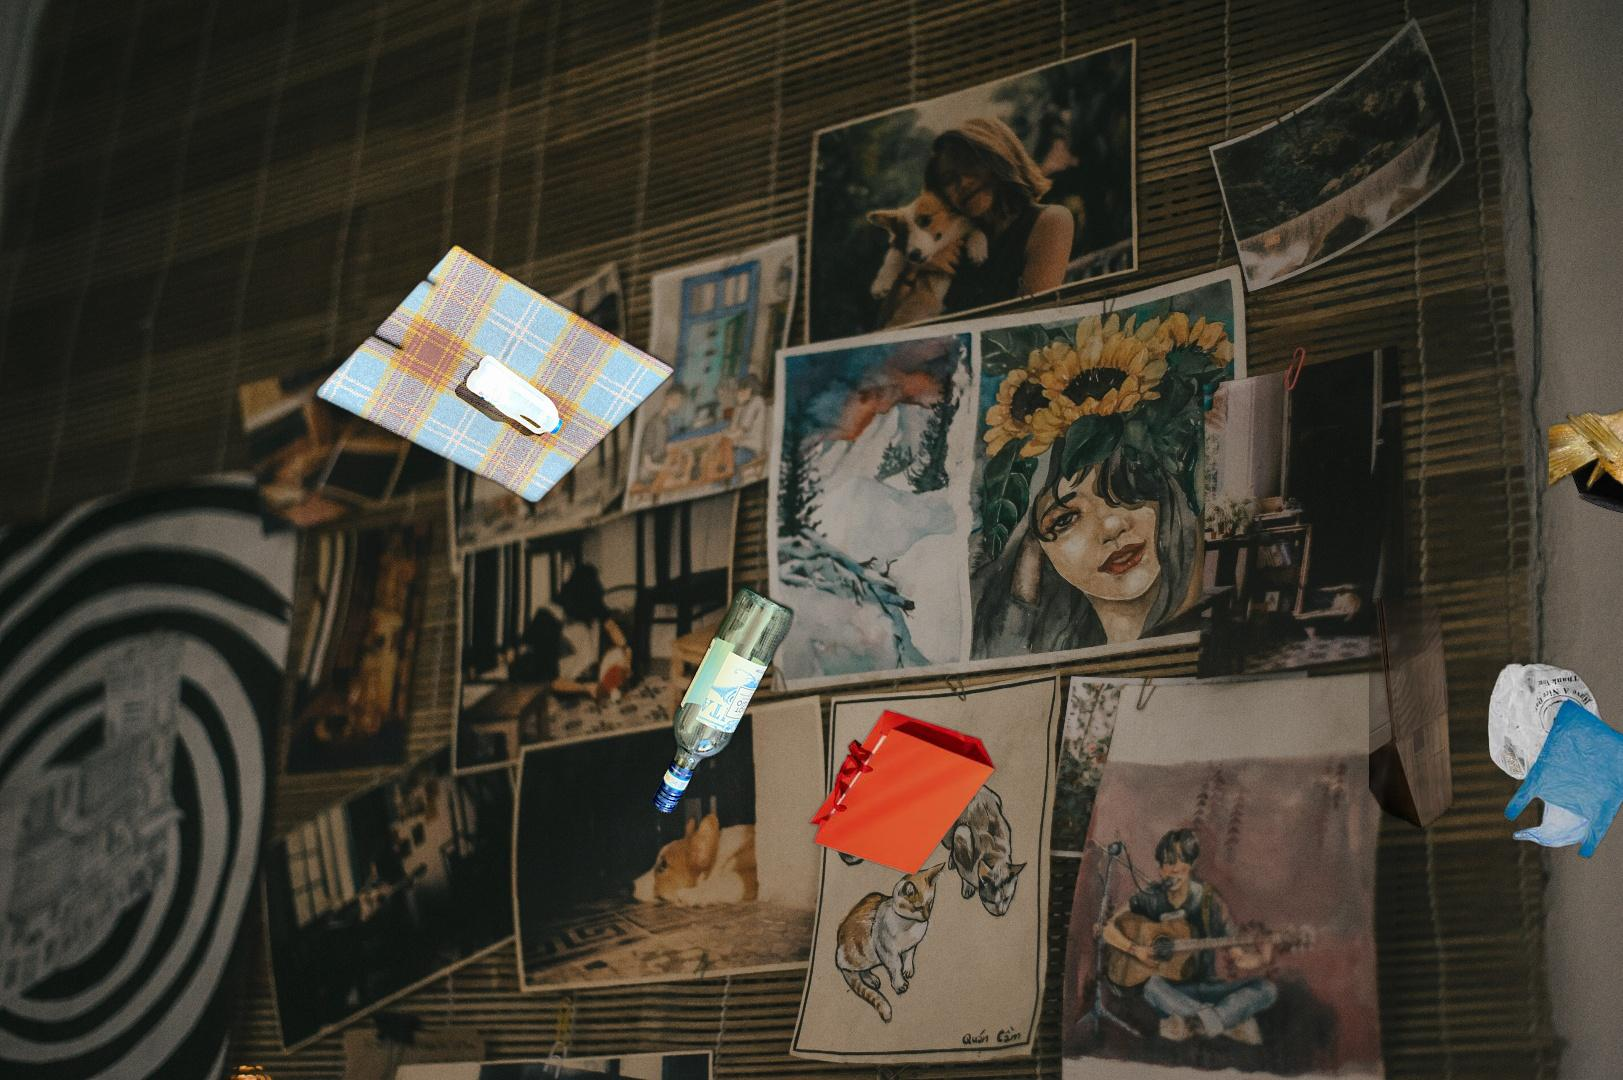biological: (1550, 295, 1623, 668)
glass: (647, 582, 798, 818)
paper-bag: (808, 708, 998, 877)
plastic-bag: (1369, 598, 1623, 861)
plastic-bottles: (280, 239, 727, 509)
shoes: (1564, 294, 1623, 520)
